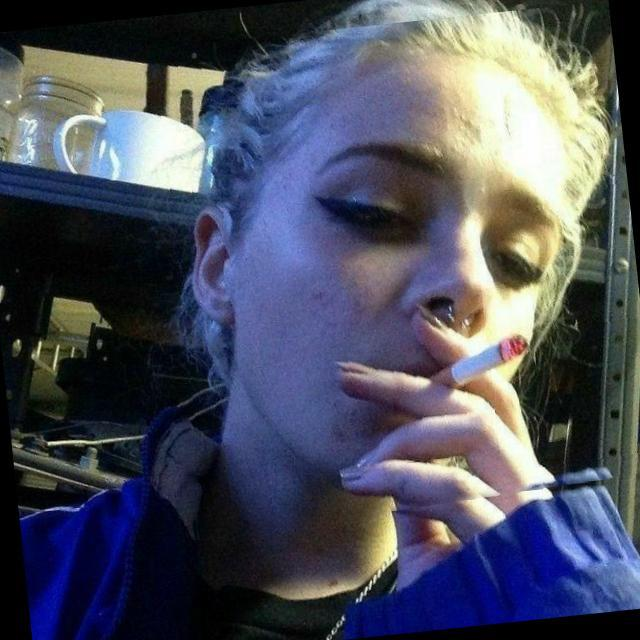cigarette: (415, 322, 549, 418)
